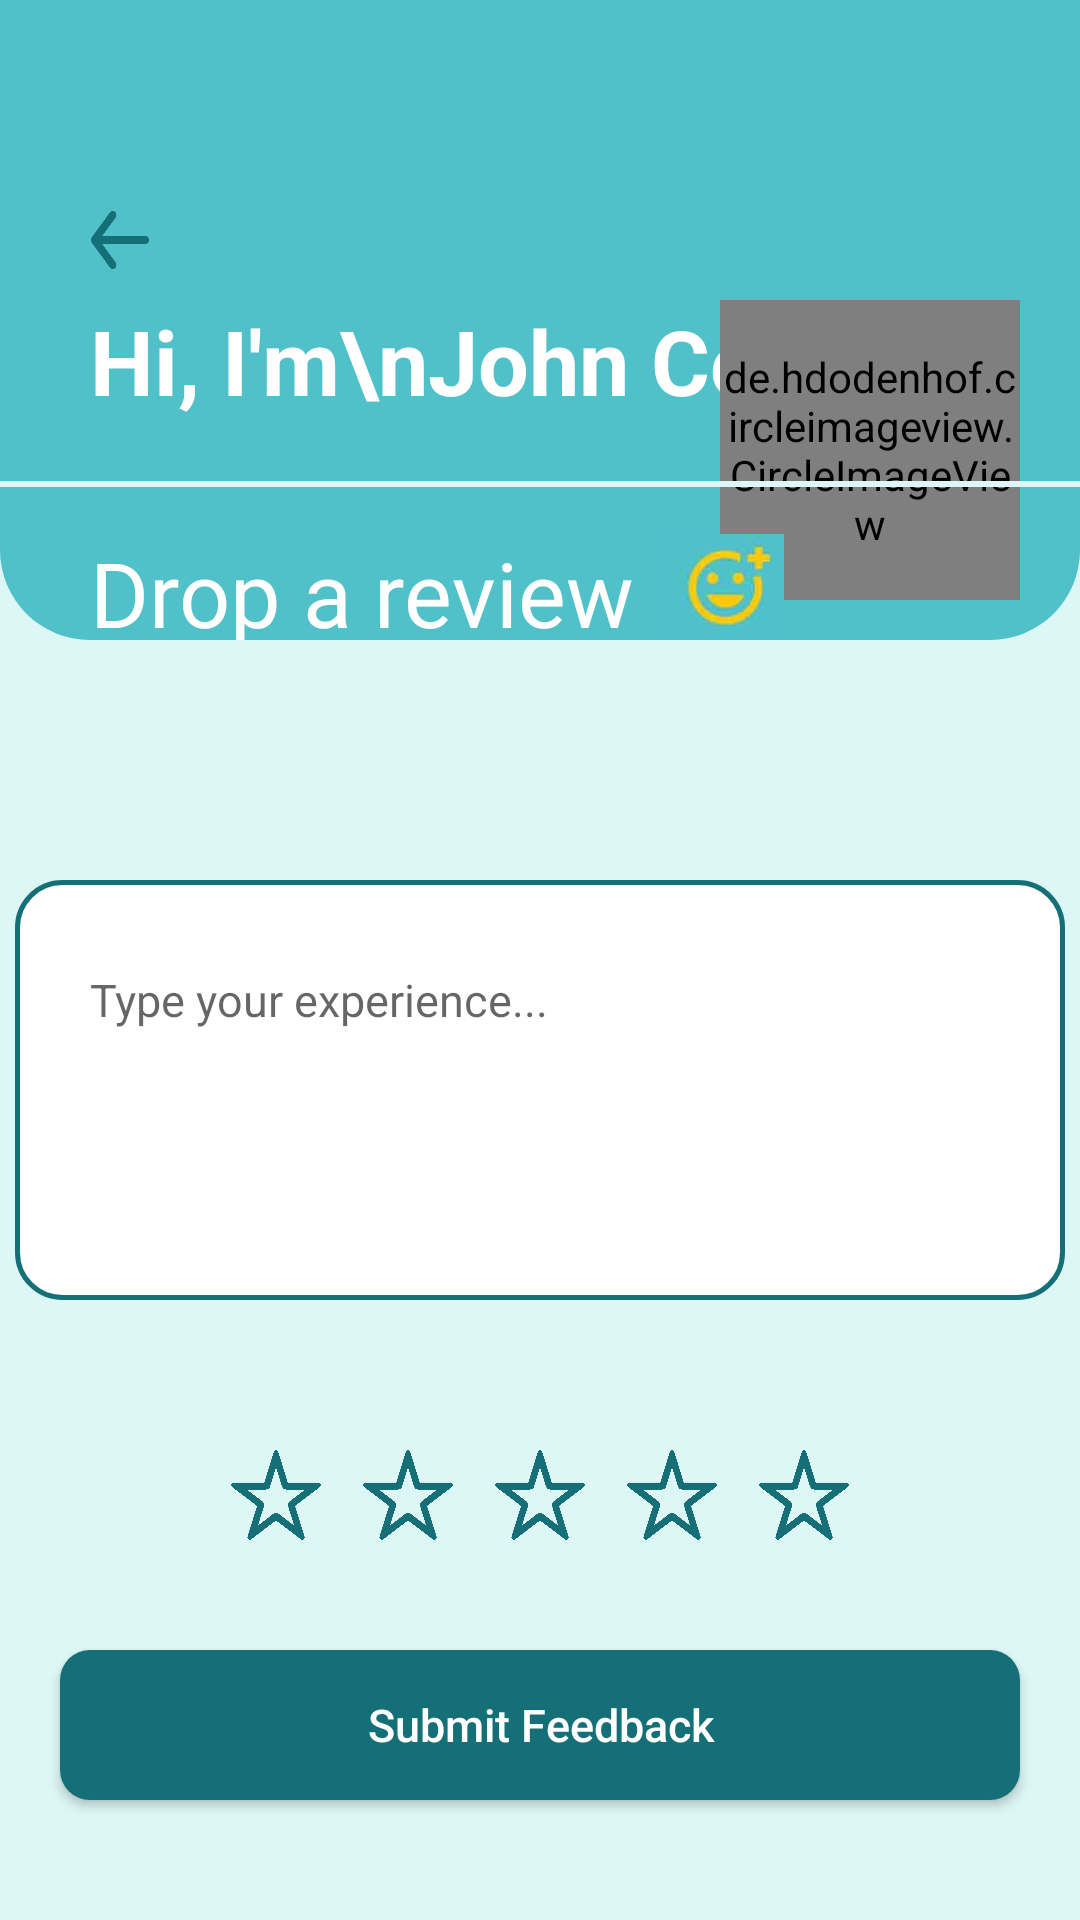

Point at icon controls on the screen. Image size 1080px×1920px, points as [x,y].
back arrow: [120,240]
ratingstar unfilled: [276,1495], [408,1495], [540,1495], [672,1495], [804,1495]
smily face: [724,586]
